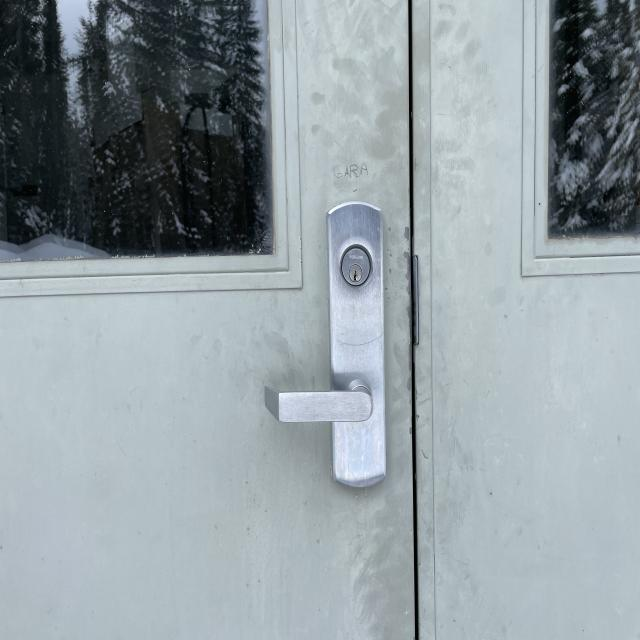door-handle: (265, 380, 372, 422)
